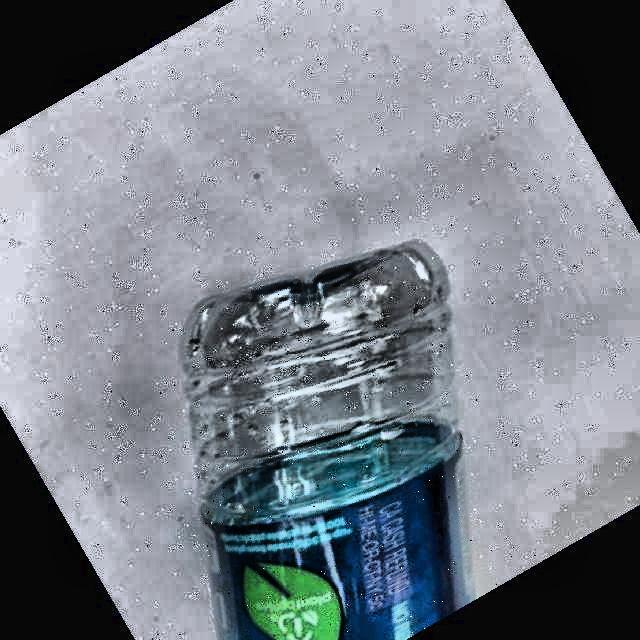plastic: (185, 244, 468, 639)
